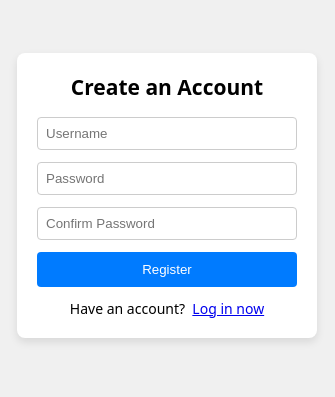
Test: User Registration › should display error when fields are empty
Click the button with test id "register-button" at (167, 270), box [37, 252, 297, 287]
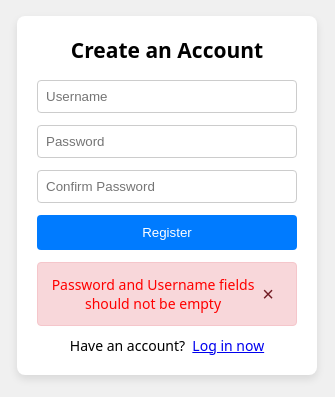
Expected: the text with test id "error-message" reads "Password and Username fields should not be empty", [52, 275, 255, 313]
